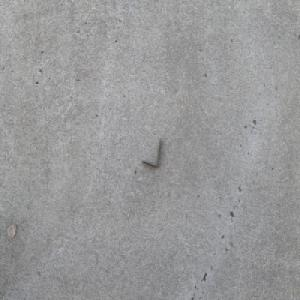MetalPart: (142, 138, 161, 169)
